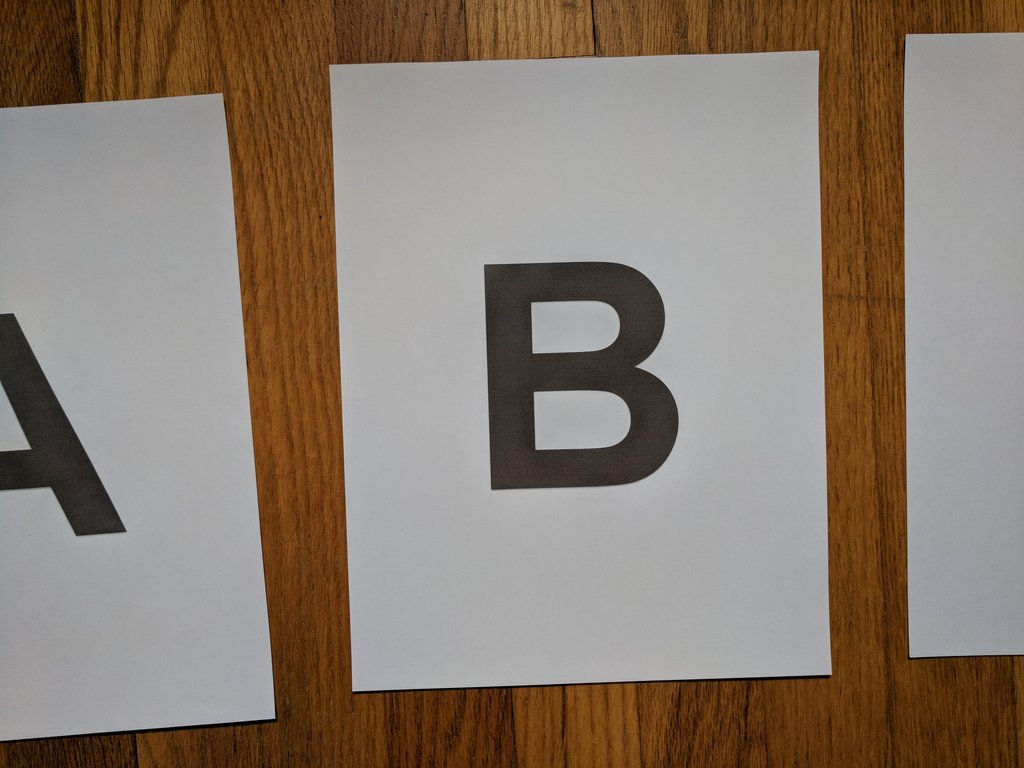home: (482, 260, 682, 492)
